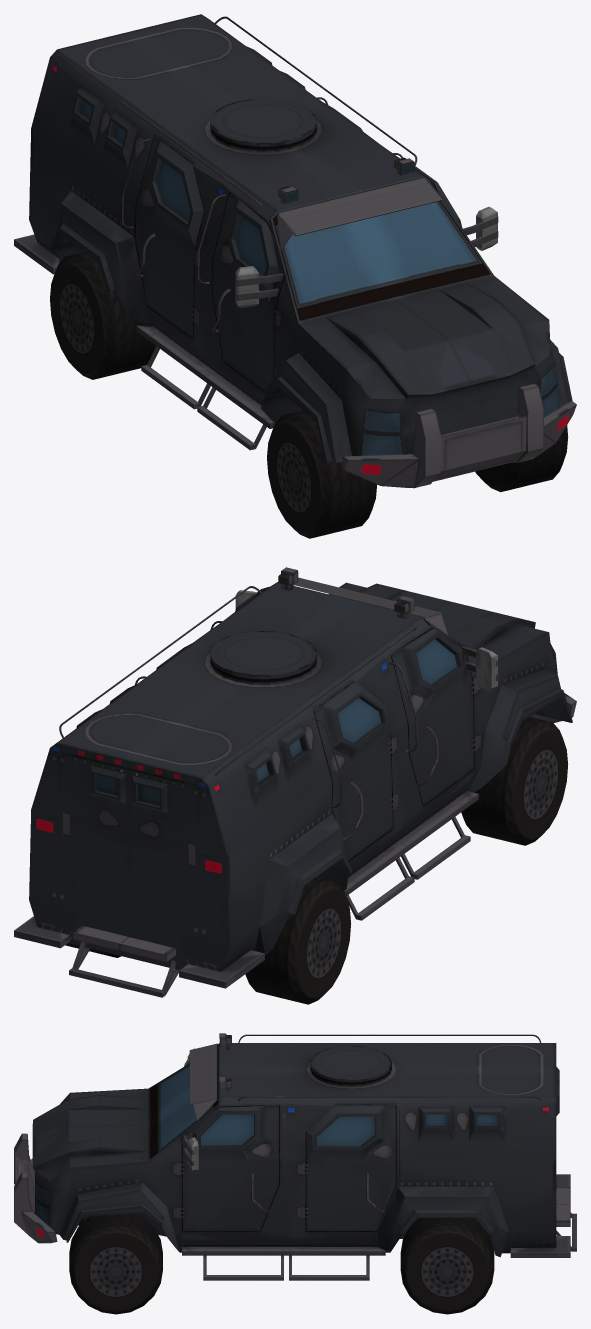
The model's file is Swat_Pit_Bul.fbx.
The picture shows the model from 3 angles, top to bottom: view 1: azimuth 30°, elevation 25°; view 2: azimuth 150°, elevation 25°; view 3: azimuth 270°, elevation 25°; orthographic projection. The views are drawn at different scales.
Visible parts, largest first — view 1: polySurface380; view 2: polySurface380; view 3: polySurface380.
Part boxes in pixels (x1=…): polySurface380: x1=14, y1=14, x2=576, y2=538; polySurface380: x1=14, y1=567, x2=576, y2=1004; polySurface380: x1=14, y1=1033, x2=576, y2=1314.
Size of the model in its own units: 248 by 254 by 607.
1 material, 1 textured.
